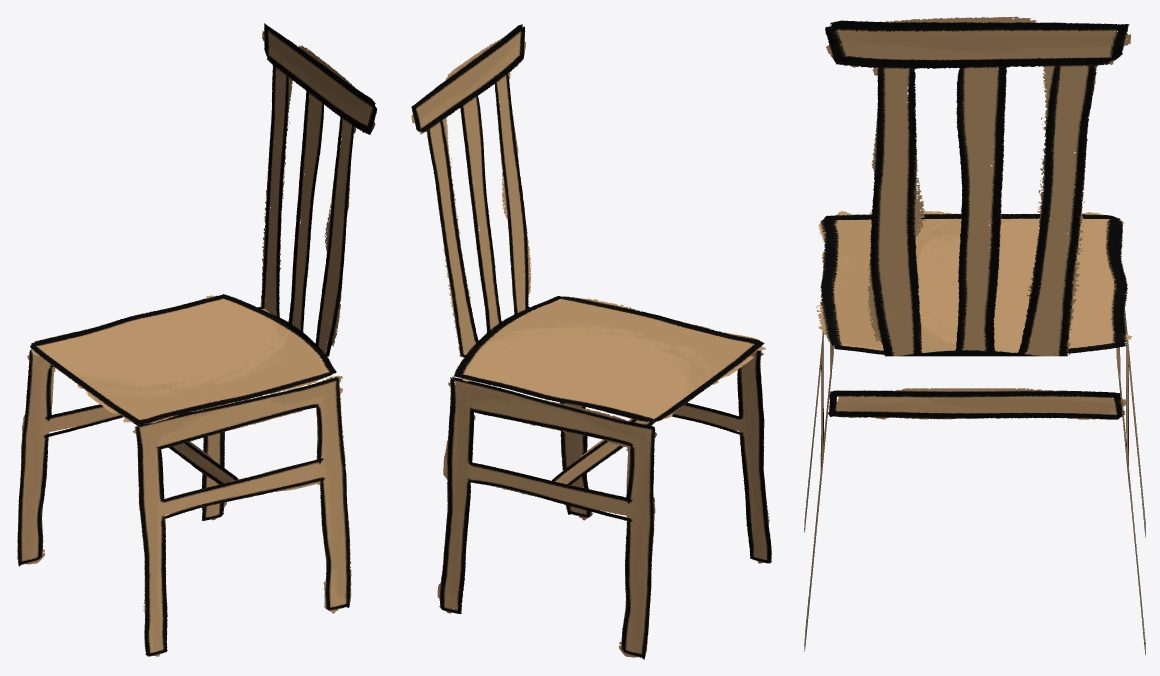
Rendered from MSH_Chaise.fbx.
3 views of the same model, side by side, from view 1: azimuth 30°, elevation 25°; view 2: azimuth 150°, elevation 25°; view 3: azimuth 270°, elevation 25° (orthographic). The views are drawn at different scales.
Parts seen in each view (by area): view 1: MSH_Chaise; view 2: MSH_Chaise; view 3: MSH_Chaise.
Part boxes in pixels (<box>): MSH_Chaise: <box>17,23,376,656</box>; MSH_Chaise: <box>411,24,771,659</box>; MSH_Chaise: <box>804,16,1145,654</box>.
Bounding box in the file's own units: 0.5047 × 0.9693 × 0.4486.
1 material, 1 textured.
